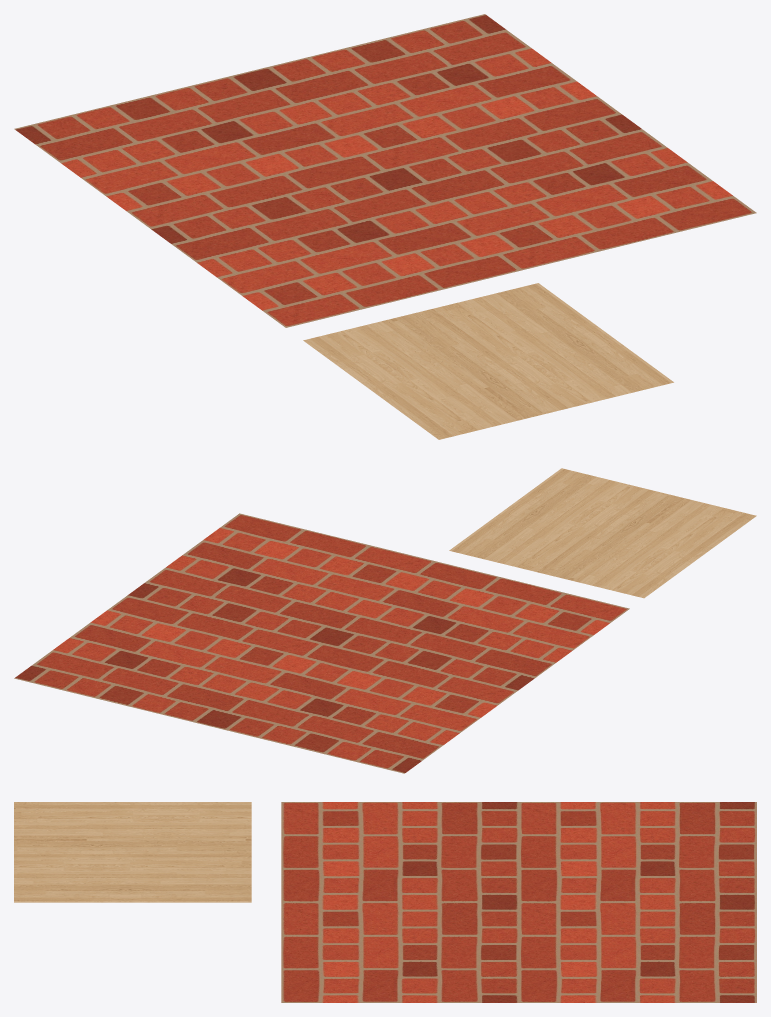
The model's file is parallaxTest.obj.
3 renders of one model, top to bottom at view 1: azimuth 30°, elevation 25°; view 2: azimuth 150°, elevation 25°; view 3: azimuth 270°, elevation 25°, orthographic. The views are drawn at different scales.
Visible parts, largest first — view 1: Plane.002, Plane.003, Plane.001, Plane.004, Plane; view 2: Plane, Plane.003, Plane.004, Plane.001, Plane.002; view 3: Plane.001, Plane.003, Plane, Plane.002, Plane.004.
Boxes of the visible parts, x1,y1,x2,y2 form: Plane.002: (14, 71, 384, 228); Plane.003: (386, 113, 756, 270); Plane.001: (150, 171, 520, 327); Plane.004: (250, 14, 620, 170); Plane: (303, 283, 673, 439); Plane: (449, 468, 756, 598); Plane.003: (127, 513, 434, 643); Plane.004: (14, 596, 321, 725); Plane.001: (322, 561, 629, 691); Plane.002: (209, 643, 516, 773); Plane.001: (281, 802, 519, 902); Plane.003: (281, 902, 519, 1002); Plane: (14, 802, 251, 902); Plane.002: (519, 802, 756, 902); Plane.004: (519, 902, 756, 1002).
Size of the model in its own units: 16 by 0 by 25.
2 materials, 2 textured.
